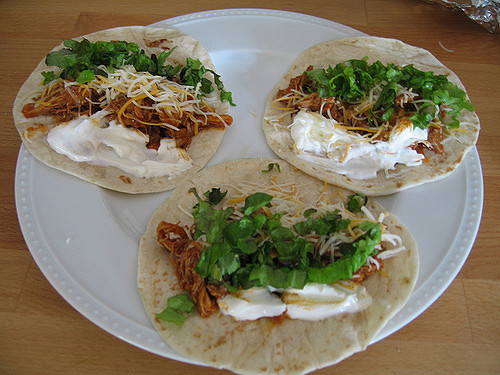chopped lettuce: (207, 209, 364, 267), (314, 57, 466, 111), (64, 38, 129, 59)
